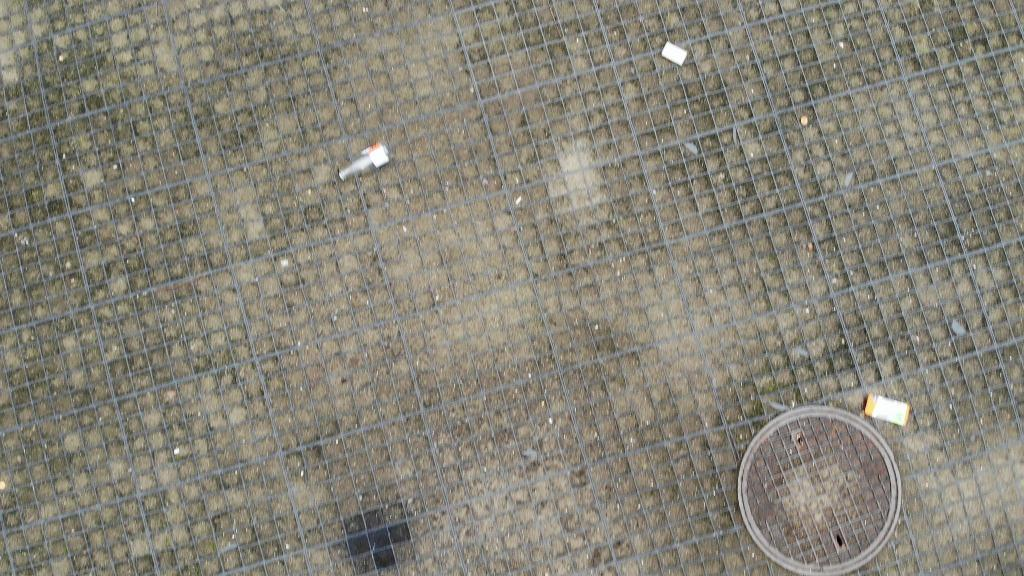garbage: (337, 136, 398, 182), (861, 391, 911, 430)
